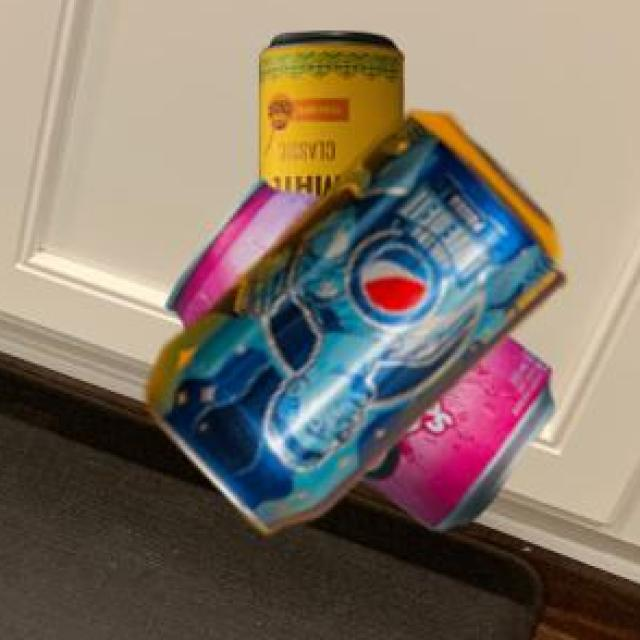logam: (145, 108, 561, 528), (162, 177, 550, 526), (256, 29, 399, 197)
